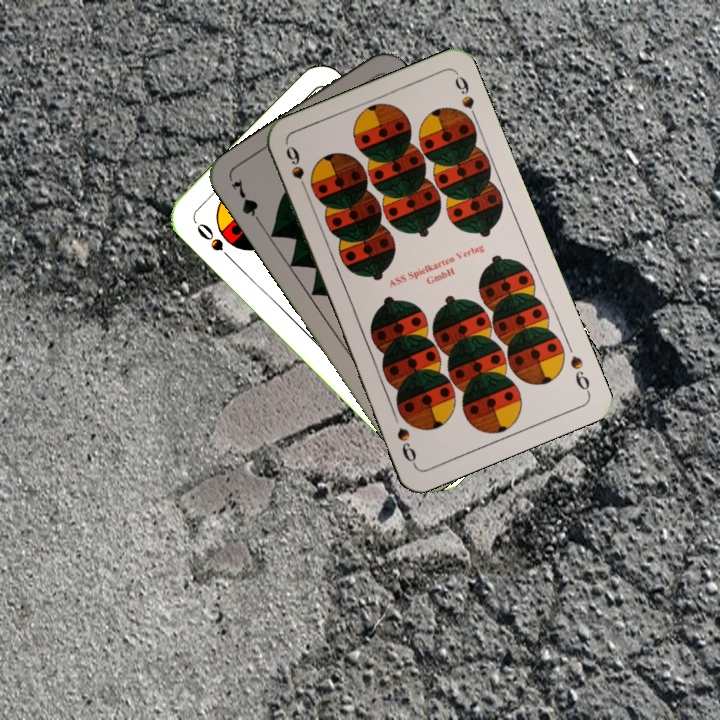G7: (226, 174, 266, 229)
S9: (281, 141, 312, 198), (566, 351, 593, 396)
SO: (192, 219, 236, 264)
